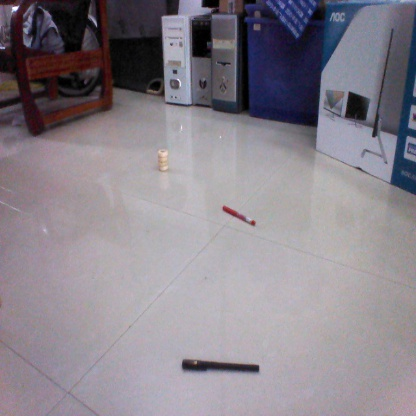chess: (157, 146, 172, 174)
pen: (180, 357, 262, 373), (221, 205, 259, 225)
